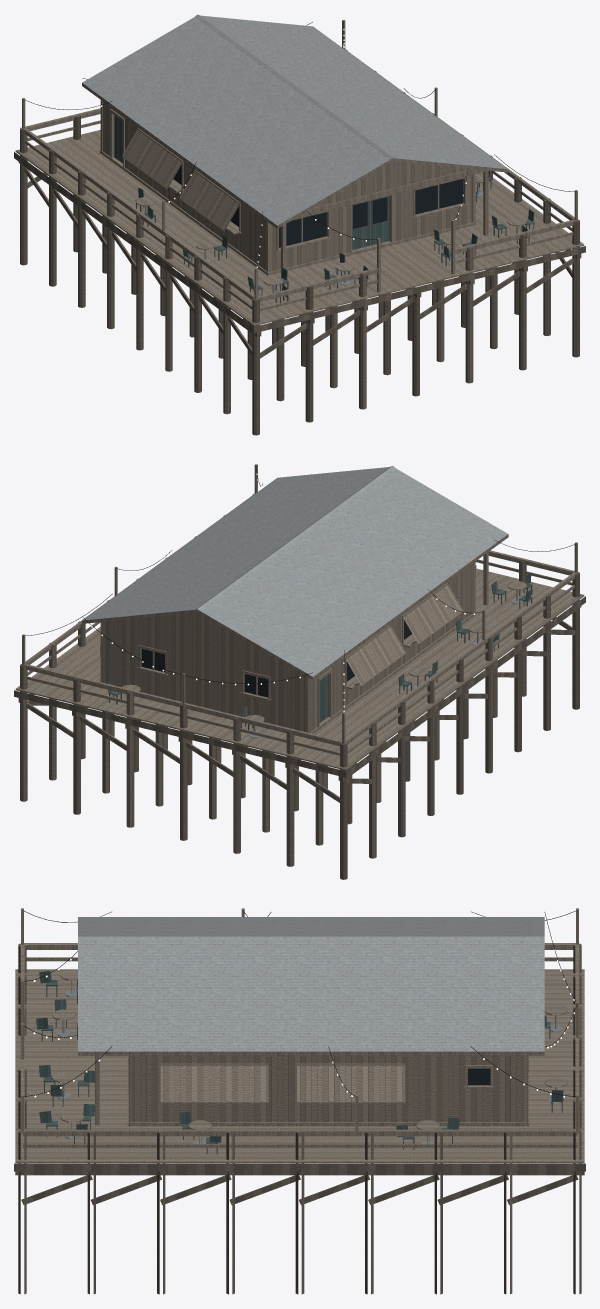
Rendered from pier-bar.glb.
The picture shows the model from 3 angles, top to bottom: view 1: azimuth 30°, elevation 25°; view 2: azimuth 150°, elevation 25°; view 3: azimuth 270°, elevation 25°; orthographic projection. The views are drawn at different scales.
Visible parts, largest first — view 1: PierBar; view 2: PierBar; view 3: PierBar.
Boxes of the visible parts, x1=… form: PierBar: x1=14, y1=14, x2=585, y2=435; PierBar: x1=14, y1=464, x2=585, y2=879; PierBar: x1=14, y1=908, x2=585, y2=1294.
Size of the model in its own units: 16.1 by 10.2 by 20.1.
Materials: 12 (6 with a texture image).
